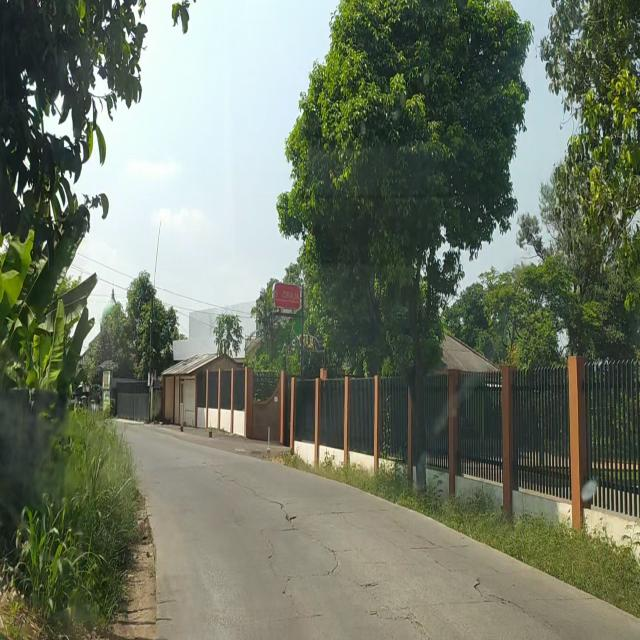Drain Hole: (262, 520, 511, 639)
